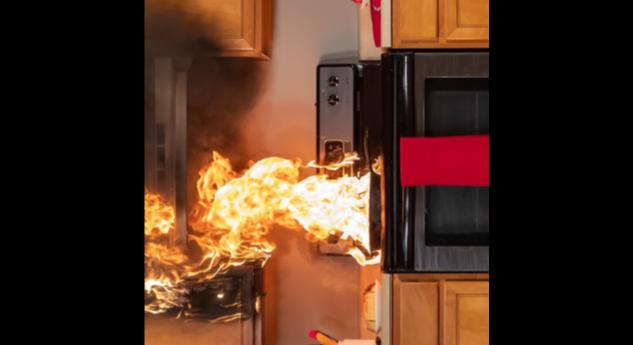fire: (150, 119, 406, 290)
